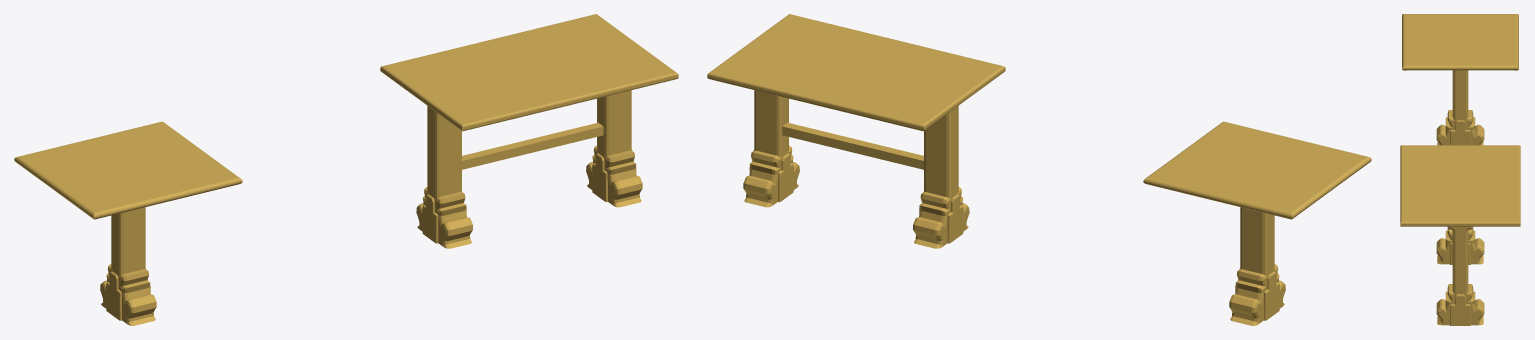
The model's file is Set_Mesas.fbx.
3 views of the same model, side by side, from view 1: azimuth 30°, elevation 25°; view 2: azimuth 150°, elevation 25°; view 3: azimuth 270°, elevation 25° (orthographic). The views are drawn at different scales.
Parts seen in each view (by area): view 1: m_MesaLarga, m_MesaCorta; view 2: m_MesaLarga, m_MesaCorta; view 3: m_MesaLarga, m_MesaCorta.
Part boxes in pixels (left/top/right/bottom): m_MesaLarga: left=380, top=14, right=678, bottom=248; m_MesaCorta: left=14, top=121, right=242, bottom=325; m_MesaLarga: left=707, top=14, right=1005, bottom=248; m_MesaCorta: left=1143, top=121, right=1371, bottom=325; m_MesaLarga: left=1400, top=145, right=1520, bottom=325; m_MesaCorta: left=1402, top=14, right=1518, bottom=145.
Bounding box in the file's own units: 972 × 230 × 236.
